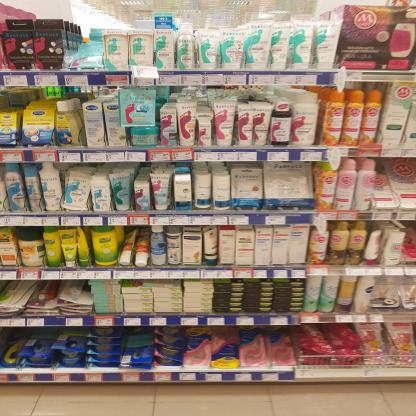Void: (4, 88, 23, 107)
